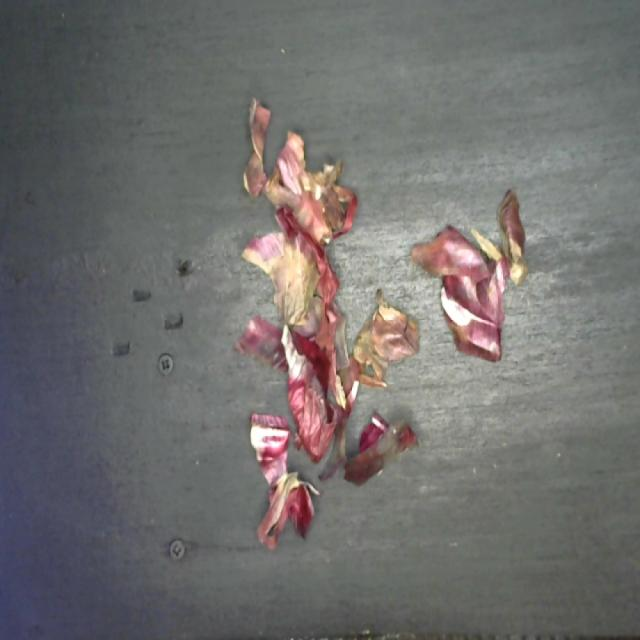biodegradable: (233, 89, 532, 560)
